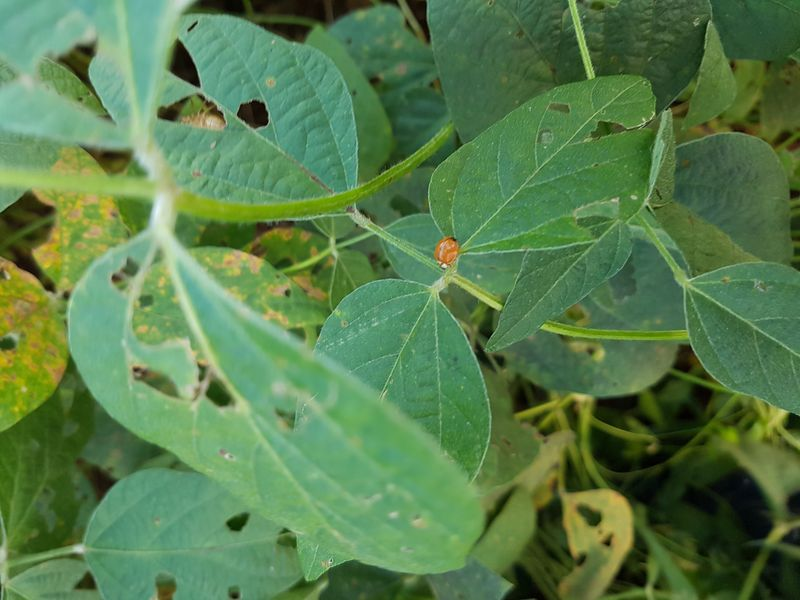Coccinellidae: (420, 227, 473, 278)
